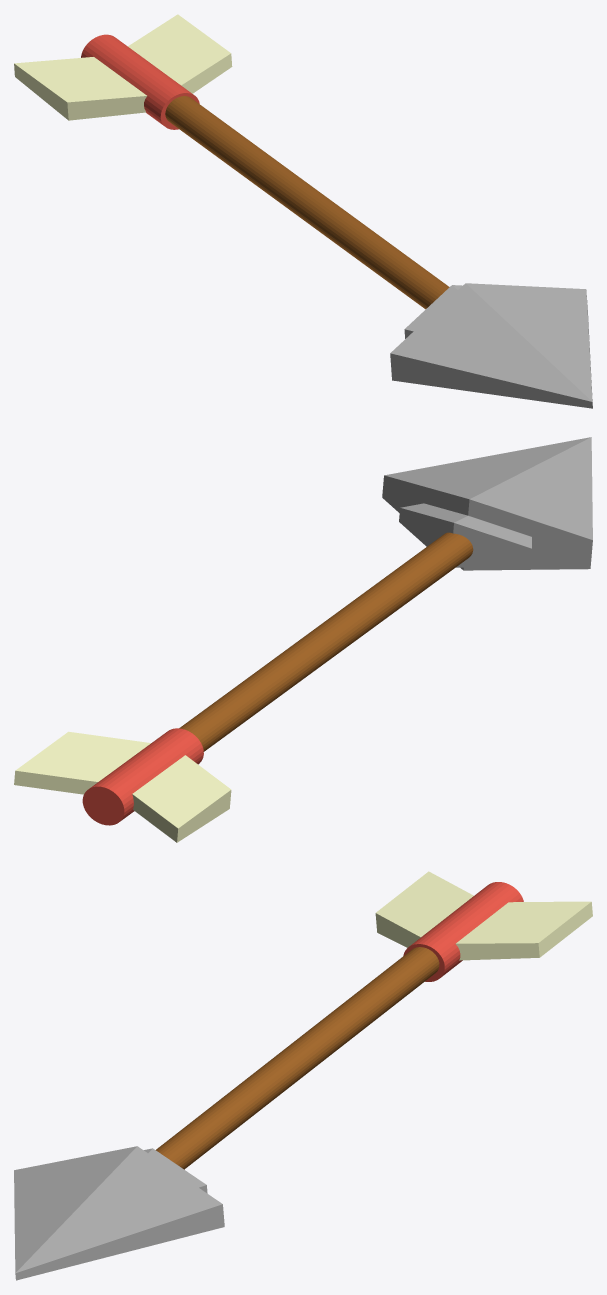
The model's file is Arrow.fbx.
The picture shows the model from 3 angles, top to bottom: view 1: azimuth 30°, elevation 25°; view 2: azimuth 150°, elevation 25°; view 3: azimuth 330°, elevation 25°; orthographic projection. The views are drawn at different scales.
Parts seen in each view (by area): view 1: Arrow; view 2: Arrow; view 3: Arrow.
Part boxes in pixels (x1,y1,x2,y2): Arrow: [14, 14, 592, 408]; Arrow: [14, 437, 592, 842]; Arrow: [14, 871, 592, 1280].
Size of the model in its own units: 80.66 by 26.63 by 341.
